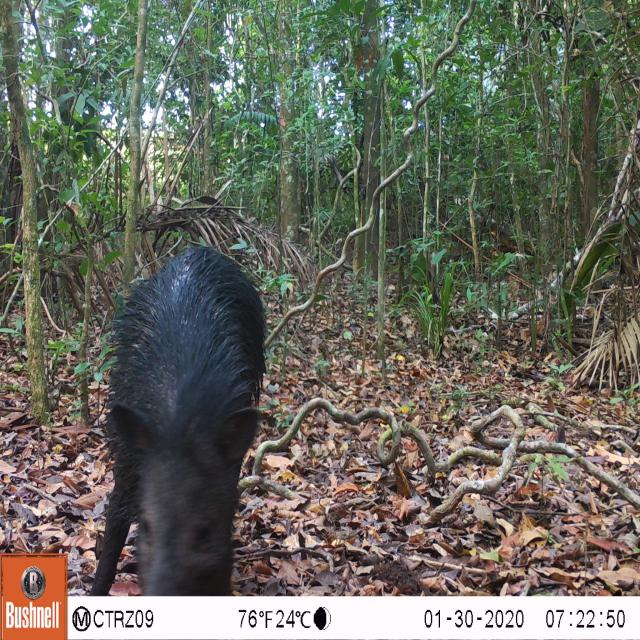Collared Peccary: (79, 228, 276, 593)
